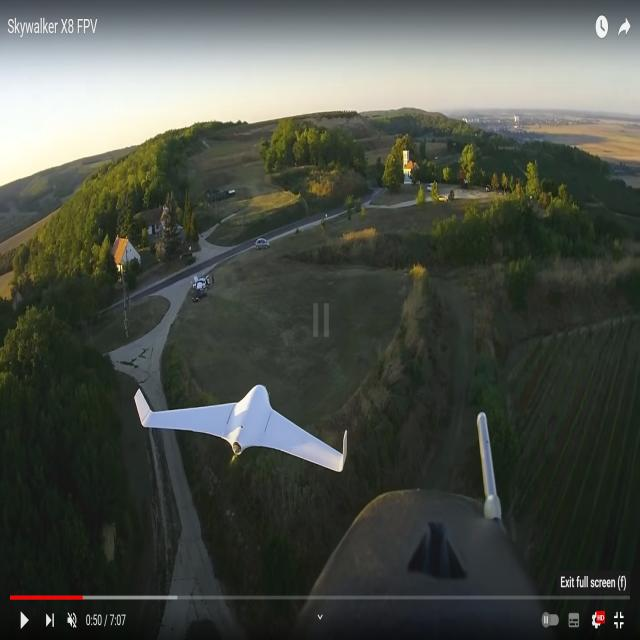iha: (131, 400, 351, 444)
